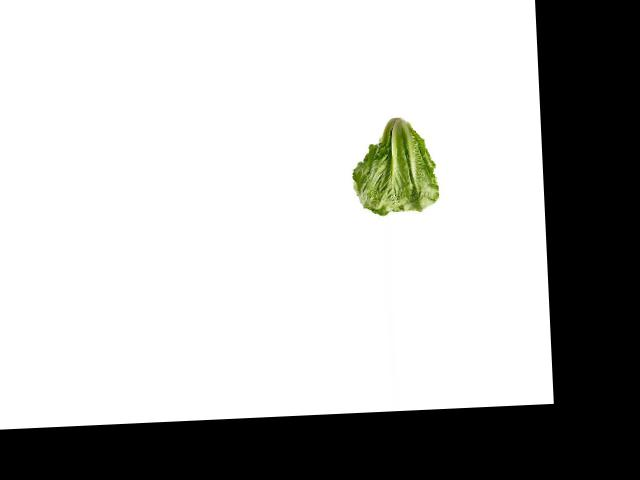lettuce: (346, 111, 436, 218)
